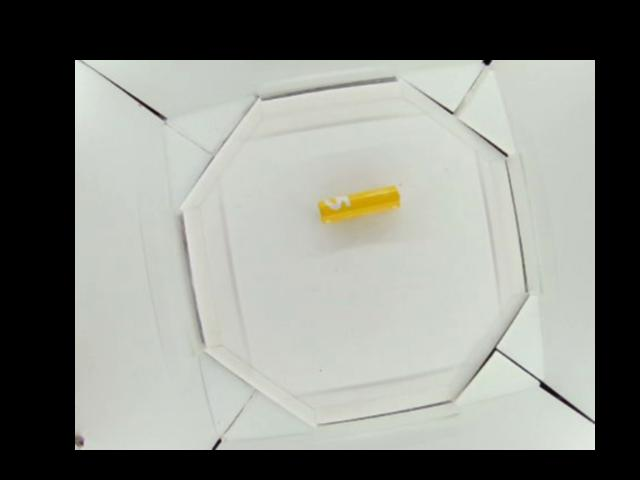Battery: (317, 185, 399, 220)
